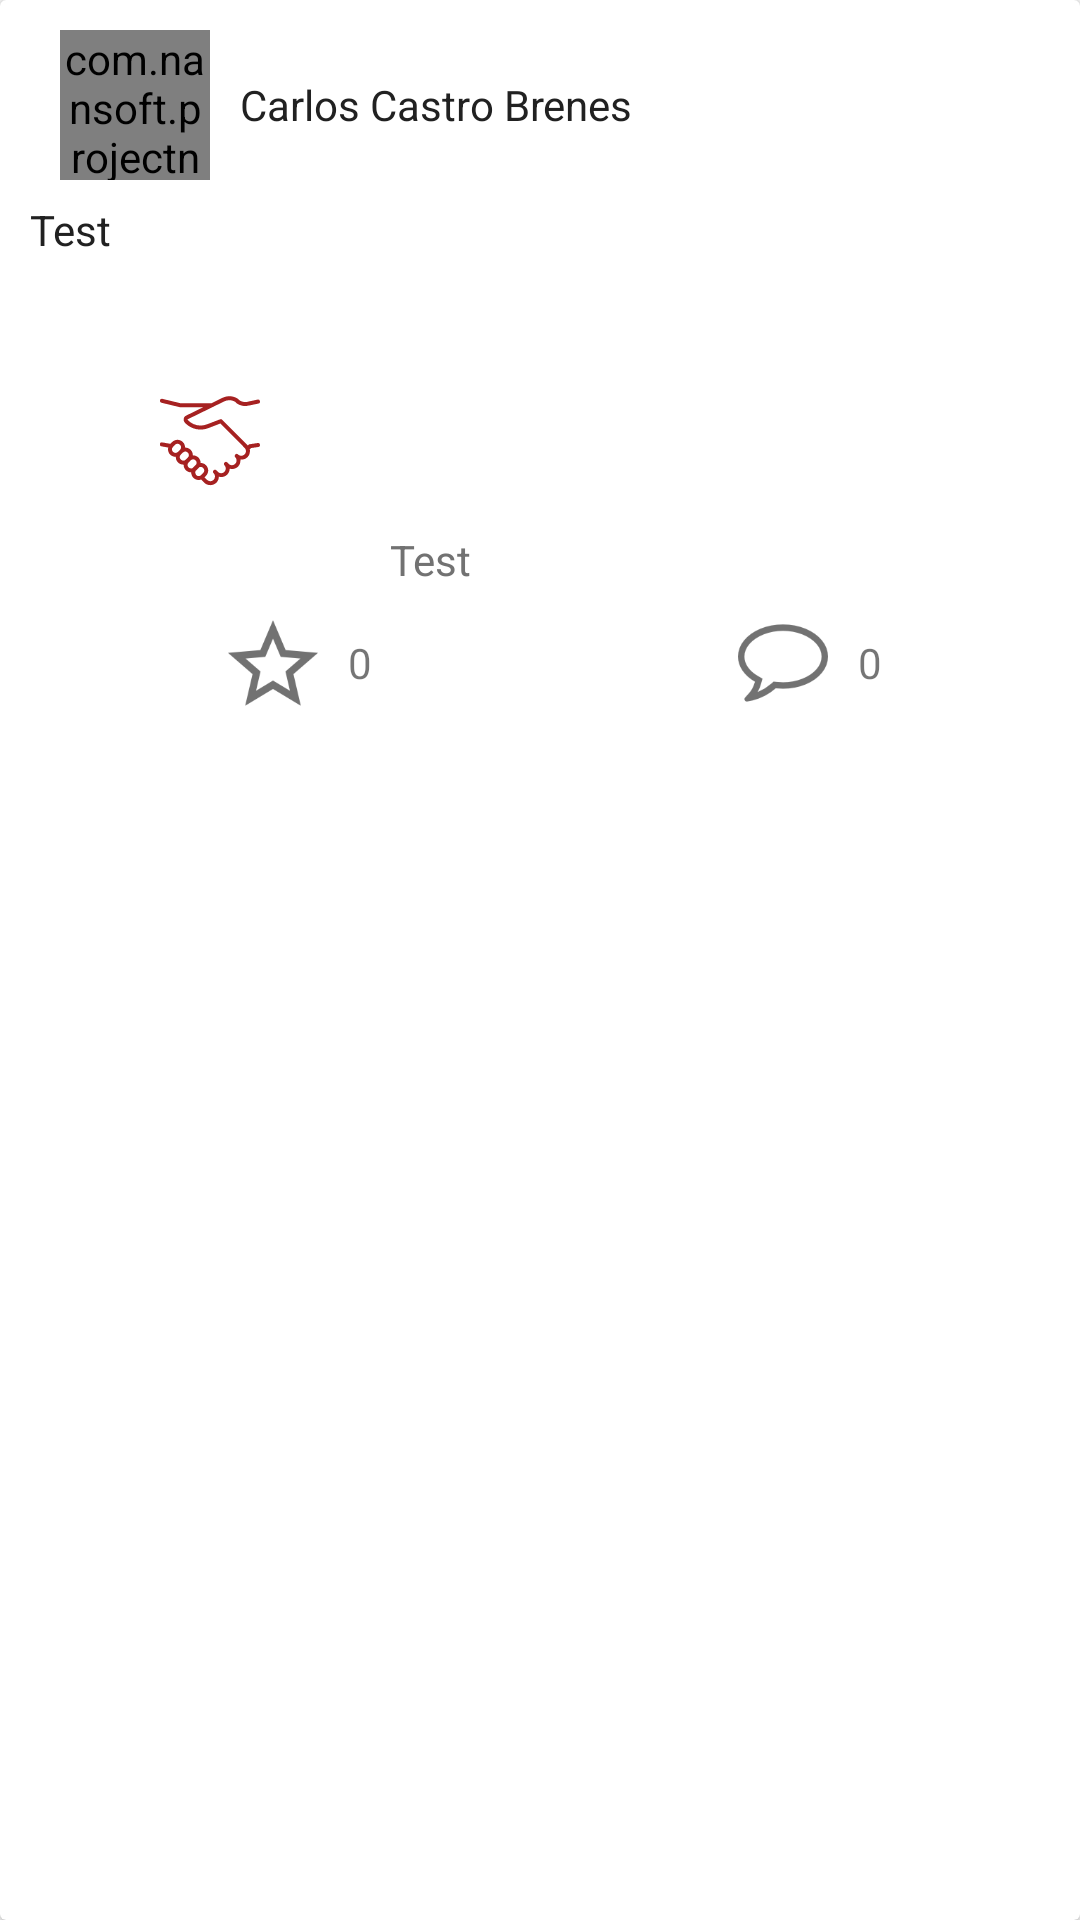

Icon bounding boxes for this 1080w x 1920h phone screenshot, format [left=x1, top=y1, right=x2, bottom=y2]:
comment: [left=738, top=624, right=828, bottom=702]
favorite: [left=228, top=621, right=318, bottom=706]
handshake: [left=160, top=396, right=260, bottom=486]
